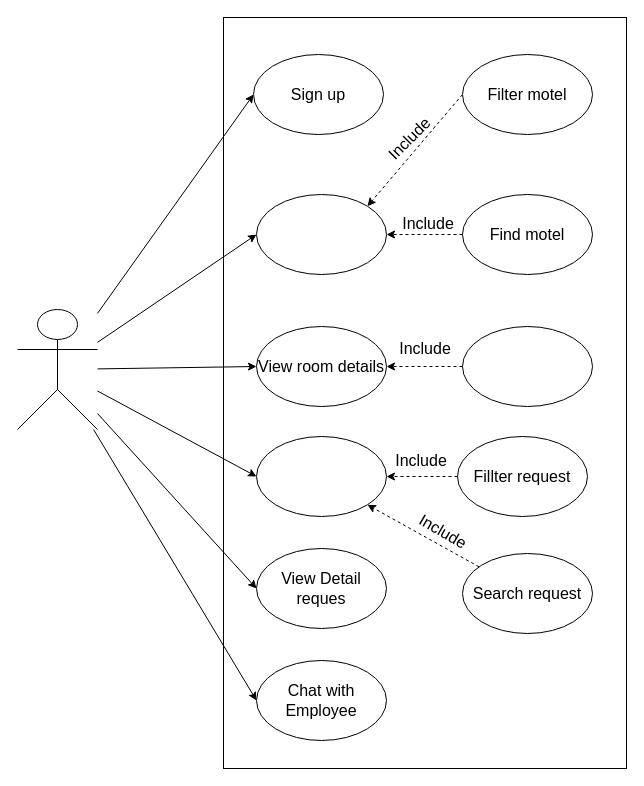
Some shapes in this 644 by 786 pixel diagram are drawn without their labels. The shapes that lost their labels are listed below. From the top down, each one's centre as x and y in pixels, then its label:
the point at 321,234: View all motel
the point at 57,369: Guest
the point at 527,366: View rating and comments
the point at 321,476: View all reques
